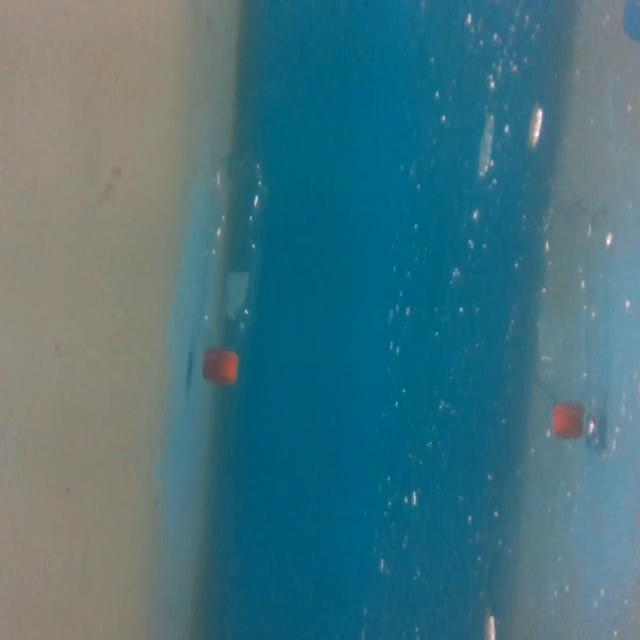plastic bottle: (194, 148, 267, 393)
